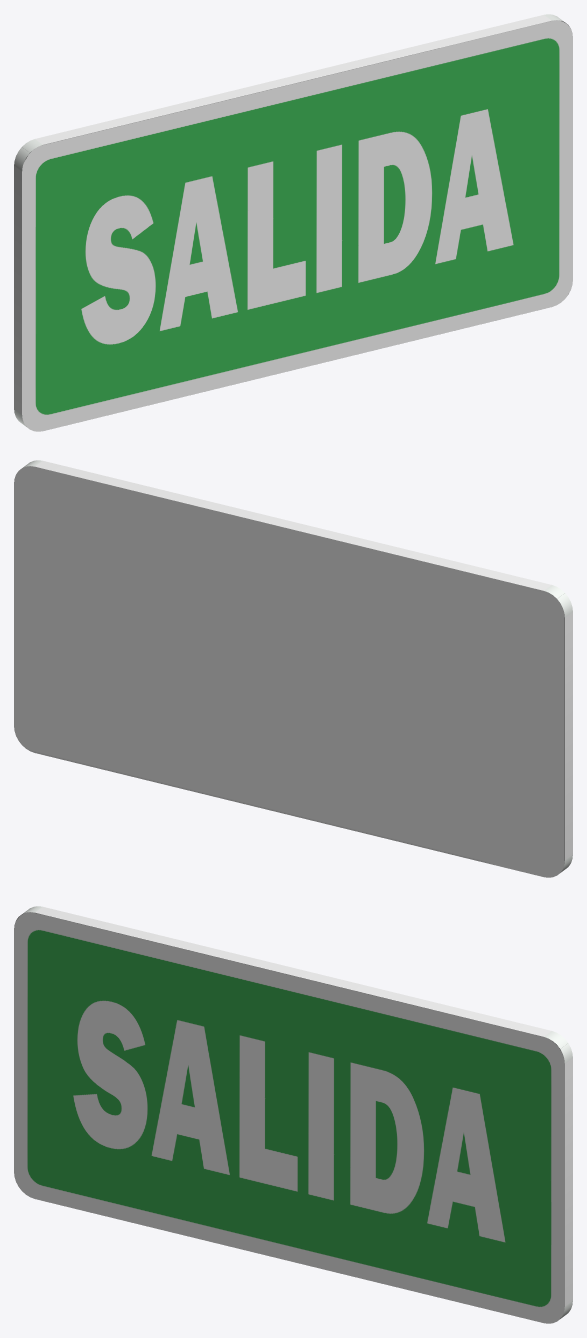
File: señales4.fbx
The picture shows the model from 3 angles, top to bottom: view 1: azimuth 30°, elevation 25°; view 2: azimuth 150°, elevation 25°; view 3: azimuth 330°, elevation 25°; orthographic projection.
Parts seen in each view (by area): view 1: salida_0; view 2: salida_0; view 3: salida_0.
Boxes of the visible parts, x1,y1,x2,y2 form: salida_0: (14,14,572,431); salida_0: (14,460,572,877); salida_0: (14,906,572,1323).
Bounding box in the file's own units: 20 × 9.93 × 0.5095.
